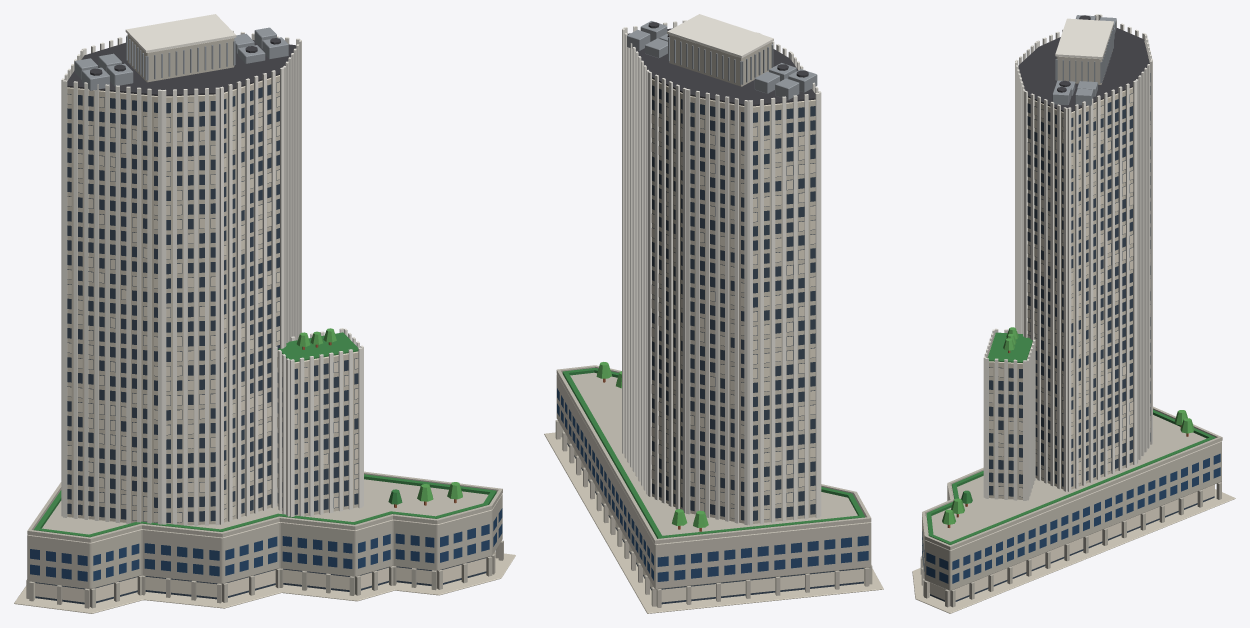
File: 201-mission.glb
3 views of the same model, side by side, from view 1: azimuth 30°, elevation 25°; view 2: azimuth 150°, elevation 25°; view 3: azimuth 270°, elevation 25° (orthographic). The views are drawn at different scales.
Visible parts, largest first — view 1: 201-mission_body, 201-mission_night_glow; view 2: 201-mission_body, 201-mission_night_glow; view 3: 201-mission_body, 201-mission_night_glow.
Boxes of the visible parts, x1,y1,x2,y2 form: 201-mission_body: [14, 14, 515, 613]; 201-mission_night_glow: [35, 82, 495, 602]; 201-mission_body: [544, 14, 883, 613]; 201-mission_night_glow: [567, 107, 864, 602]; 201-mission_body: [912, 14, 1235, 613]; 201-mission_night_glow: [929, 93, 1214, 600].
Size of the model in its own units: 114 by 136 by 85.51.
